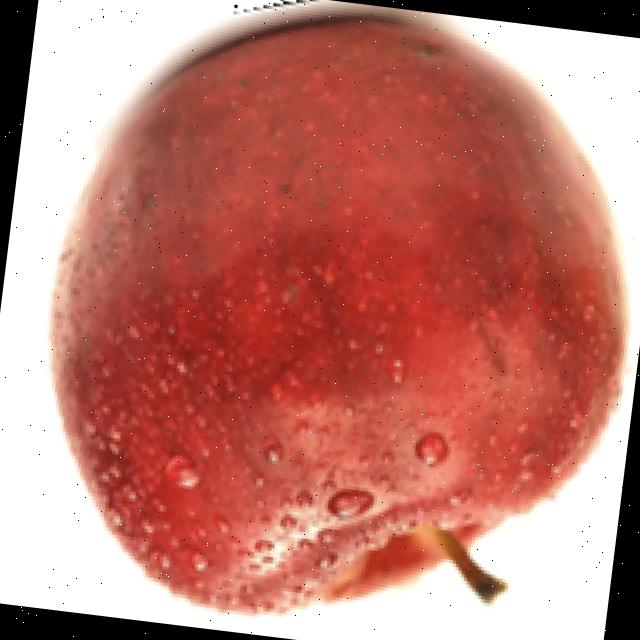apple: (44, 0, 635, 621)
